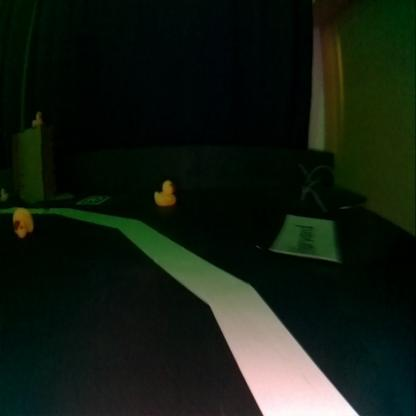Duckie: (12, 208, 34, 238), (153, 180, 175, 204), (31, 110, 43, 126), (1, 188, 7, 202)
QR code: (76, 194, 110, 204)
